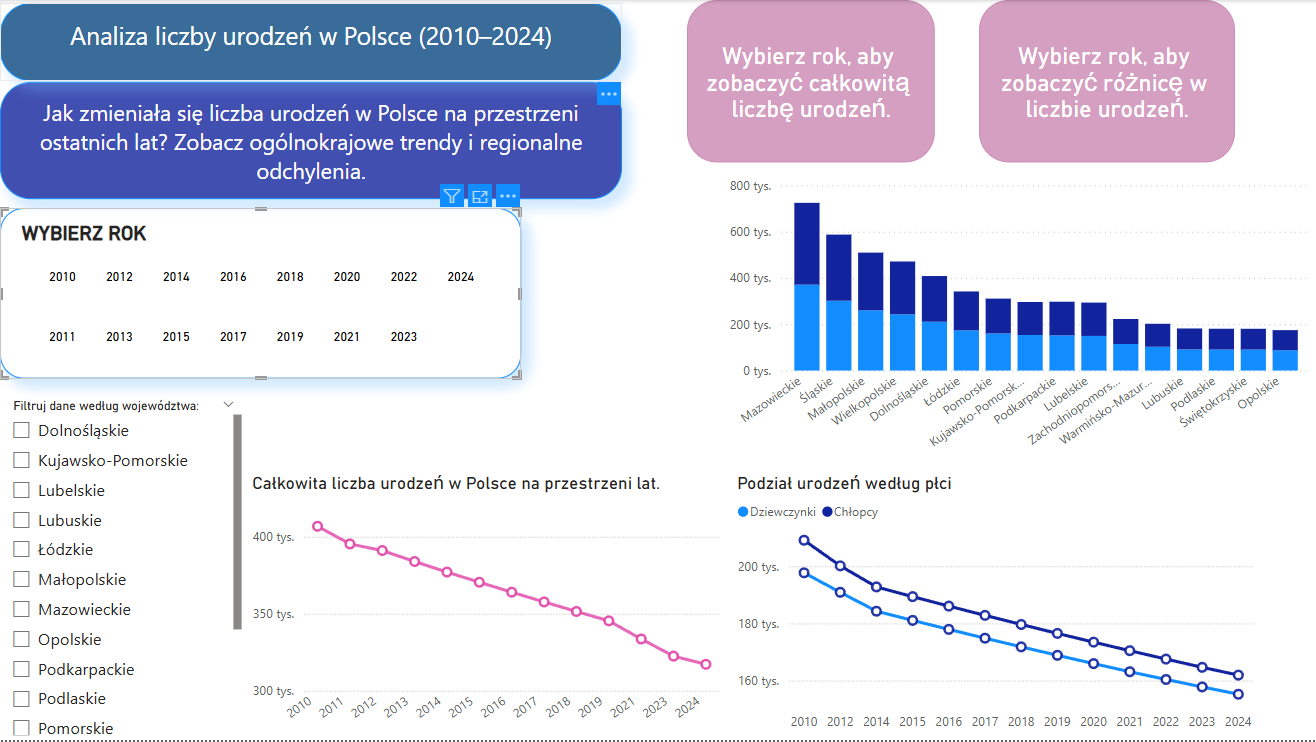

The page's visual inventory and layout, read from the dashboard file:
{"tool":"powerbi","page":{"name":"Strona 1","canvas":[1280,720],"ordinal":0},"visuals":[{"type":"slicer","fields":{"Values":["2010.Rok"]},"box":[0,202.3,506.7,166.3],"z":0},{"type":"textbox","box":[0,79.8,605,113.8],"z":1000},{"type":"lineChart","title":"Całkowita liczba urodzeń w Polsce na przestrzeni lat.","fields":{"Category":["2010.Rok"],"Y":["2010.Całkowita liczba urodzeń"]},"box":[240.2,459.1,464,260.7],"z":2000},{"type":"lineChart","title":"Podział urodzeń według płci","fields":{"Y":["Sum(2010.Dziewczynki)","Sum(2010.Chłopcy)"],"Category":["2010.Rok"]},"box":[712,459.1,512.6,260.7],"z":3000},{"type":"card","fields":{"Values":["2010.CałkowitaUrodzeniaWybranyRok"]},"box":[668.2,0,241.2,157.6],"z":4000},{"type":"card","fields":{"Values":["2010.RoznicaPlecWybranyRok"]},"box":[952.2,0,249,157.6],"z":5000},{"type":"columnChart","fields":{"Category":["2010.Województwo"],"Y":["Sum(2010.Chlopcy)","Sum(2010.Dziewczynki)"]},"box":[704.2,166.3,575.8,281.1],"z":6000},{"type":"textbox","box":[0,2.9,605,75.9],"z":7000},{"type":"slicer","fields":{"Values":["2010.Województwo"]},"box":[0,383.2,240.2,336.5],"z":8000}]}

Visuals, with their boxes on the page's 1280x720 design canvas (x1, y1, x2, y2). These are canvas units, not pixel positions in the 1316x742 screenshot, which may show the page scaled, cropped or inside an application window:
slicer - 2010.Rok: bbox(0, 202, 507, 369)
textbox: bbox(0, 80, 605, 194)
"Całkowita liczba urodzeń w Polsce na przestrzeni lat." lineChart: bbox(240, 459, 704, 720)
"Podział urodzeń według płci" lineChart: bbox(712, 459, 1225, 720)
card - 2010.CałkowitaUrodzeniaWybranyRok: bbox(668, 0, 909, 158)
card - 2010.RoznicaPlecWybranyRok: bbox(952, 0, 1201, 158)
columnChart - 2010.Województwo x Sum(2010.Chlopcy): bbox(704, 166, 1280, 447)
textbox: bbox(0, 3, 605, 79)
slicer - 2010.Województwo: bbox(0, 383, 240, 720)
